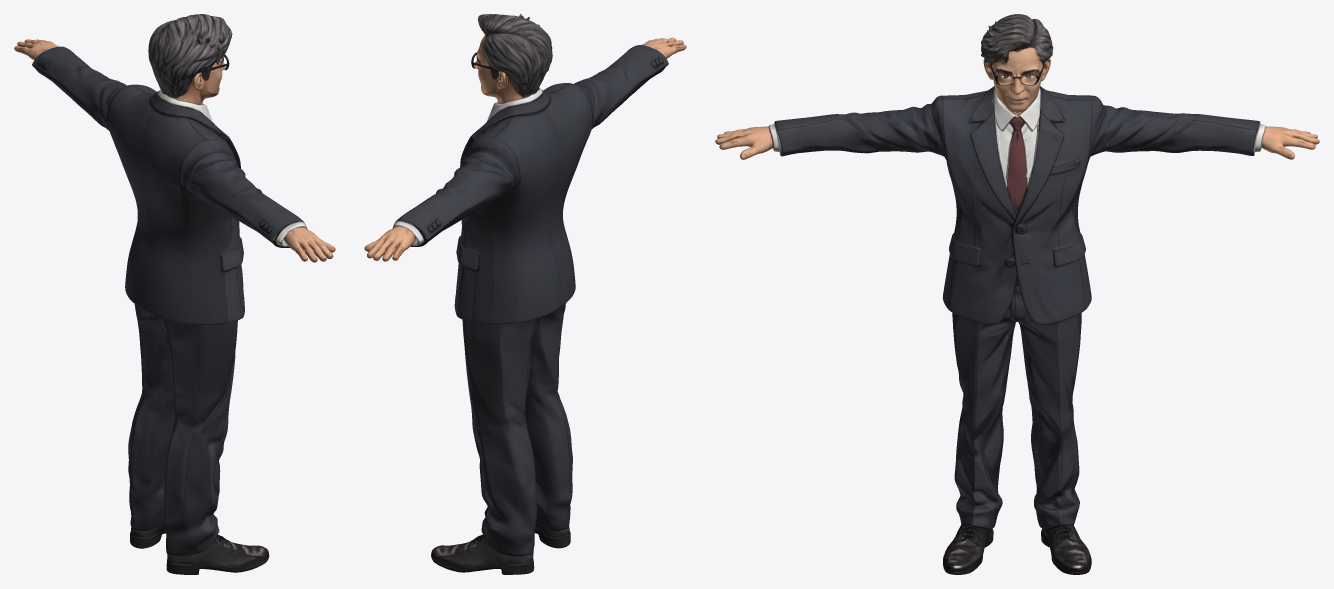
The model's file is salaryman-visitor-02.glb.
The picture shows the model from 3 angles, left to right: view 1: azimuth 30°, elevation 25°; view 2: azimuth 150°, elevation 25°; view 3: azimuth 270°, elevation 25°; orthographic projection.
Visible parts, largest first — view 1: tripo_node_86fb124e-7d46-4581-b4b2-fb4d0324de52; view 2: tripo_node_86fb124e-7d46-4581-b4b2-fb4d0324de52; view 3: tripo_node_86fb124e-7d46-4581-b4b2-fb4d0324de52.
Part boxes in pixels (left/top/right/bottom): tripo_node_86fb124e-7d46-4581-b4b2-fb4d0324de52: left=14, top=14, right=335, bottom=574; tripo_node_86fb124e-7d46-4581-b4b2-fb4d0324de52: left=364, top=14, right=686, bottom=574; tripo_node_86fb124e-7d46-4581-b4b2-fb4d0324de52: left=715, top=14, right=1319, bottom=574.
Bounding box in the file's own units: 0.1916 × 0.9794 × 0.9998.
Materials: 1 (1 with a texture image).
